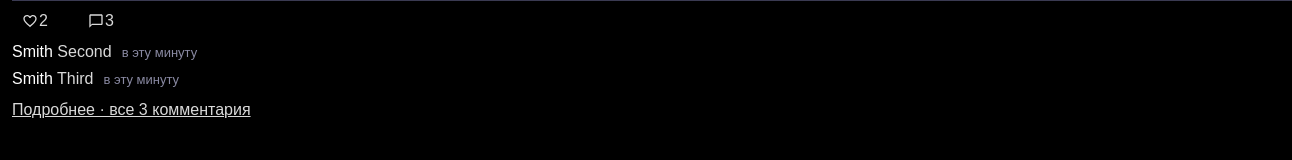
Scenario: ActivitySocial › sends guests to sign in instead of liking and hides the form
Click the button named "Нравится".
click(35, 21)  # box [12,11,58,31]
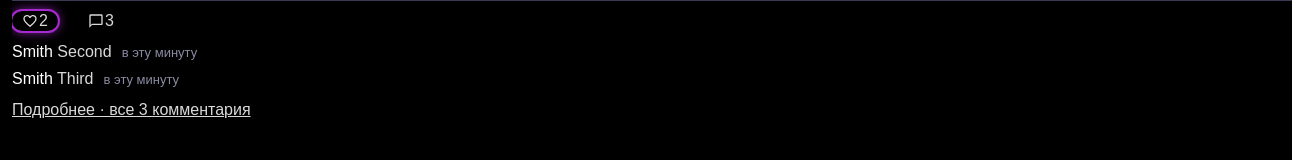
Click the button "Подробнее · все 3 комментария".
click(131, 110)  # box [12,101,251,119]
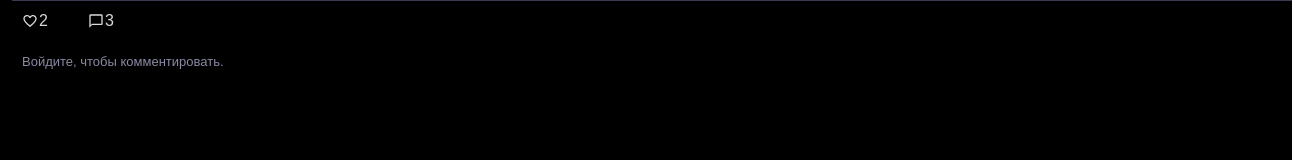
expect the text "Войдите, чтобы комментировать." is shown: met, box [22,54,224,69]
